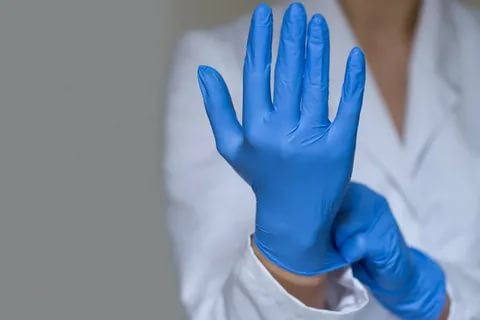gloves: (193, 1, 366, 275), (333, 178, 451, 320)
